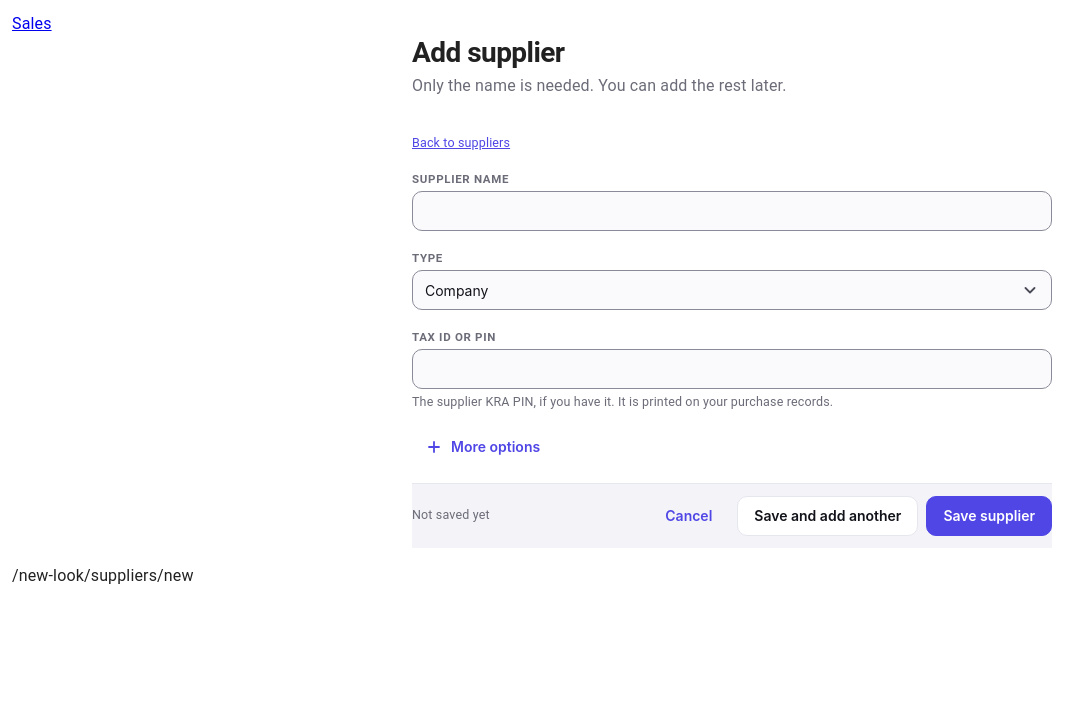
Test: errors beside the field and in the summary (AC-26) › the name is required: the error shows beside the field and in the summary
The image size is (1073, 722).
Click the button "Save supplier" at [989, 516], box [926, 496, 1052, 536]
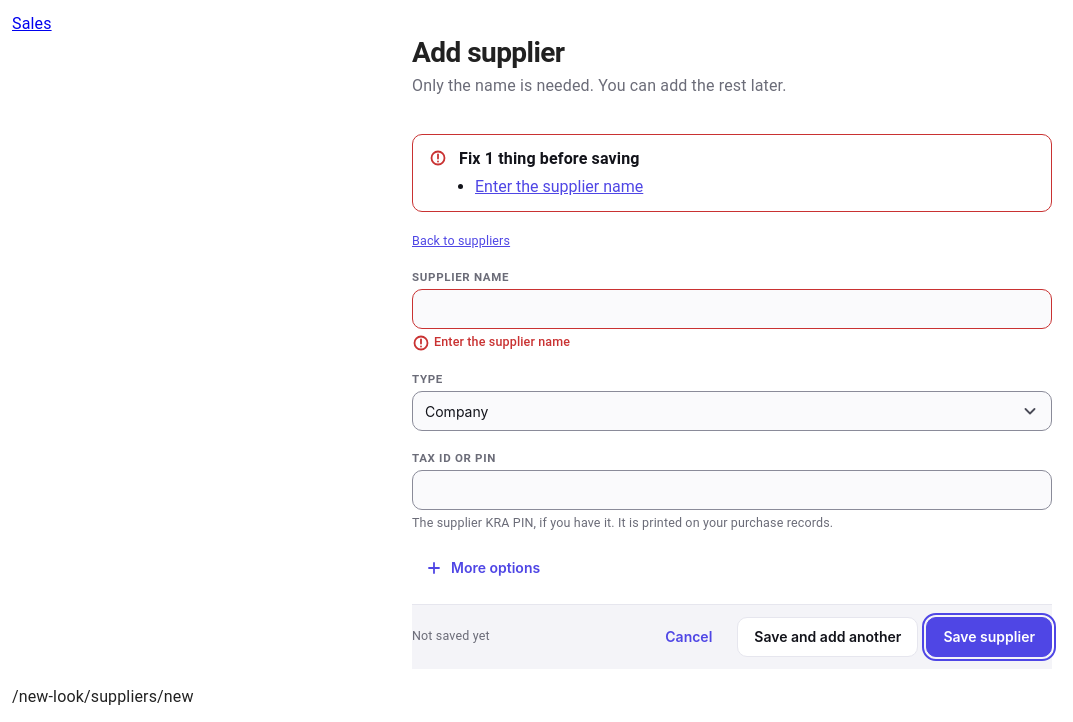
Now the message "Fix 1 thing before saving Enter the supplier name" is shown, box [412, 134, 1052, 212]
Now the button "Enter the supplier name" is shown, box [475, 175, 643, 199]
